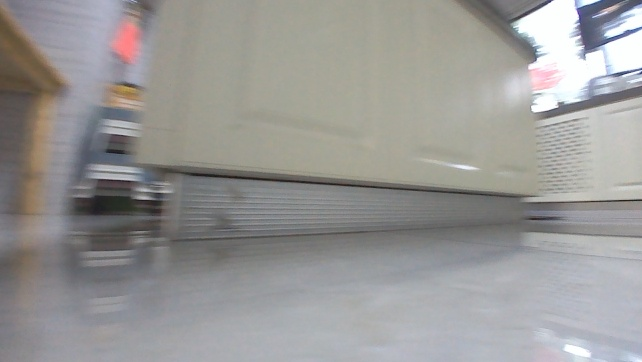cupboard: (136, 0, 540, 245), (527, 80, 641, 216)
